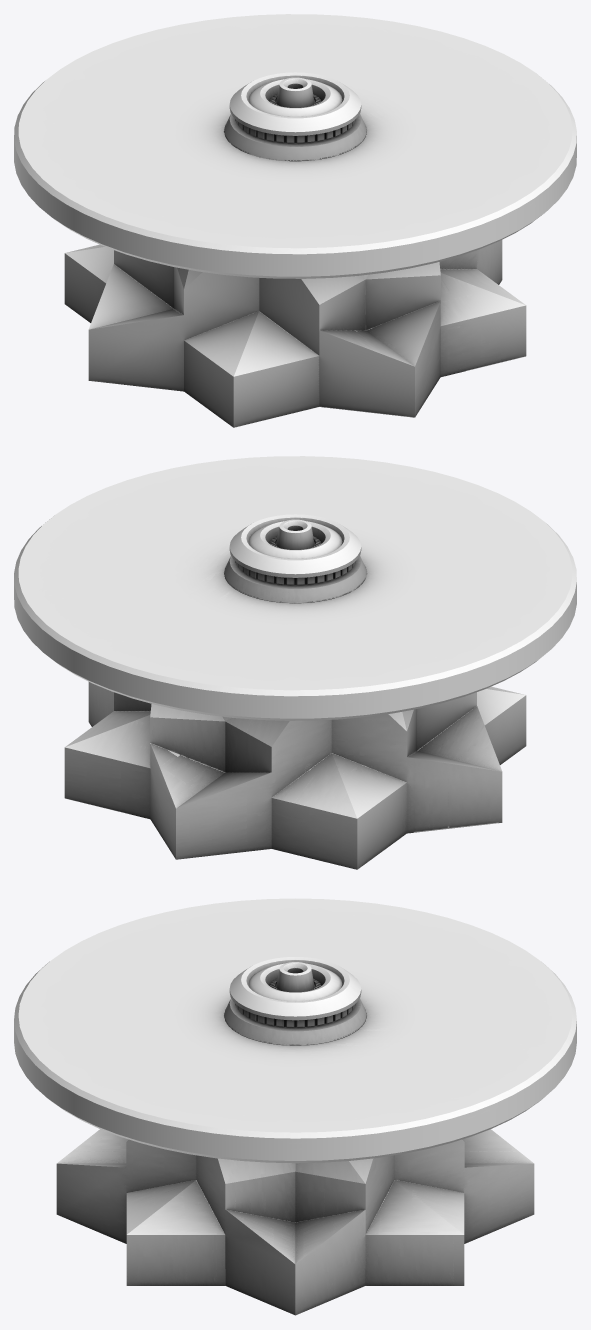
File: QS_Table.fbx
3 views of the same model, one above another, from view 1: azimuth 30°, elevation 25°; view 2: azimuth 150°, elevation 25°; view 3: azimuth 270°, elevation 25° (orthographic).
Parts seen in each view (by area): view 1: Table_Top, Table_Bottom, Center_Projector; view 2: Table_Top, Table_Bottom, Center_Projector; view 3: Table_Top, Table_Bottom, Center_Projector.
Part boxes in pixels (x1,y1,x2,y2): Table_Top: (14,14,576,278); Table_Bottom: (64,240,526,427); Center_Projector: (224,72,366,161); Table_Top: (14,456,576,720); Table_Bottom: (64,682,526,869); Center_Projector: (224,514,366,603); Table_Top: (14,898,576,1163); Table_Bottom: (56,1129,534,1315); Center_Projector: (224,957,366,1045).
Bounding box in the file's own units: 250 × 121 × 250.
3 materials, 3 textured.
